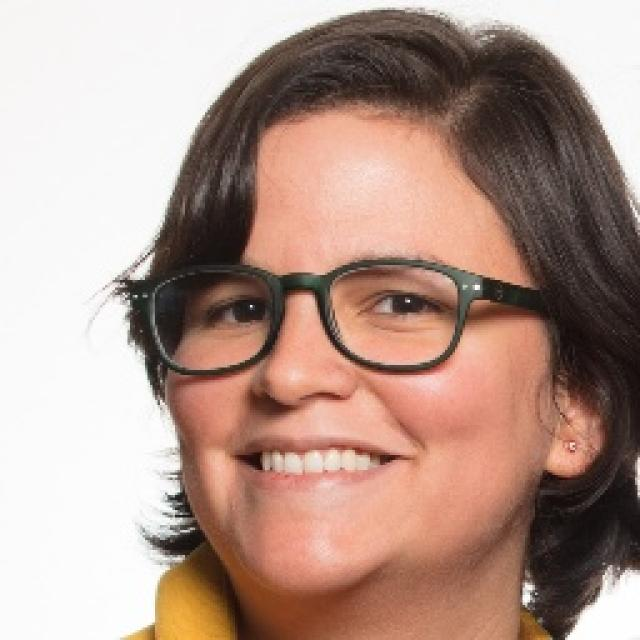earlobe: (544, 412, 590, 479)
eye: (362, 288, 442, 320), (202, 296, 272, 324)
nose: (238, 381, 368, 453)
wholeear: (544, 300, 624, 480)
